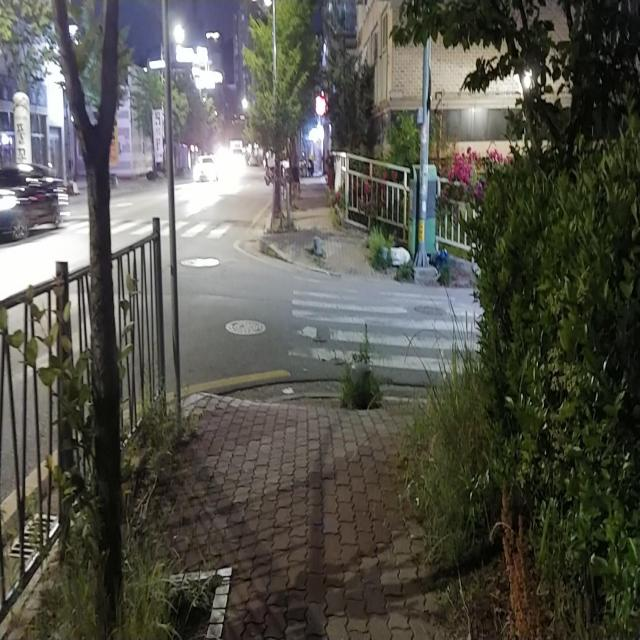횡단보도: (287, 274, 481, 374), (67, 213, 236, 241)
